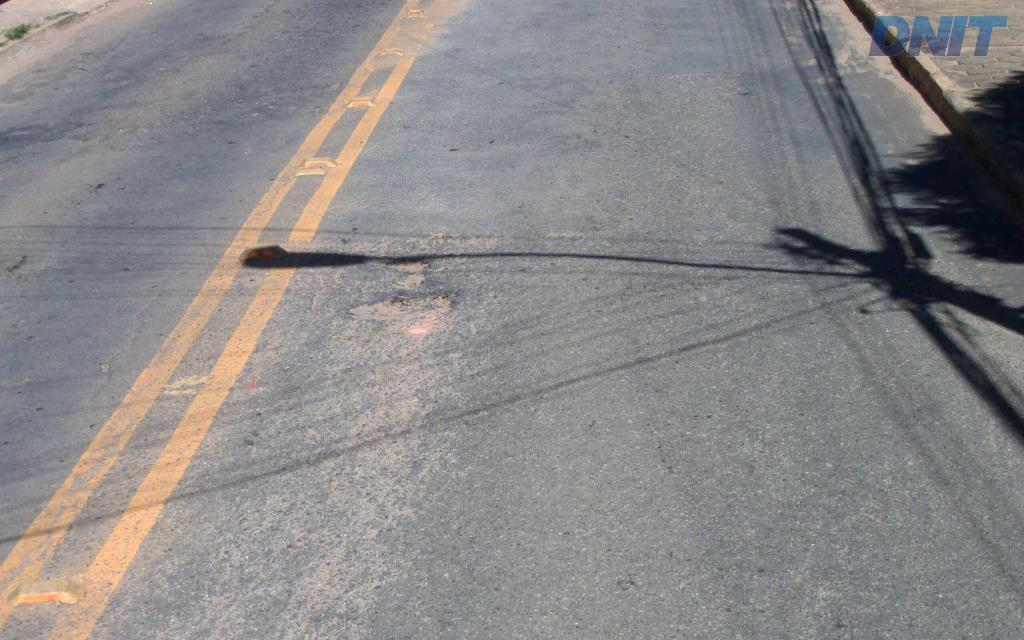pothole: (347, 254, 455, 330)
